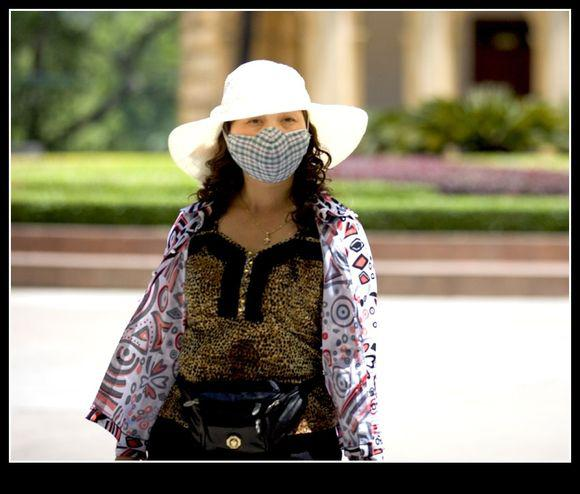OK: (226, 99, 309, 182)
